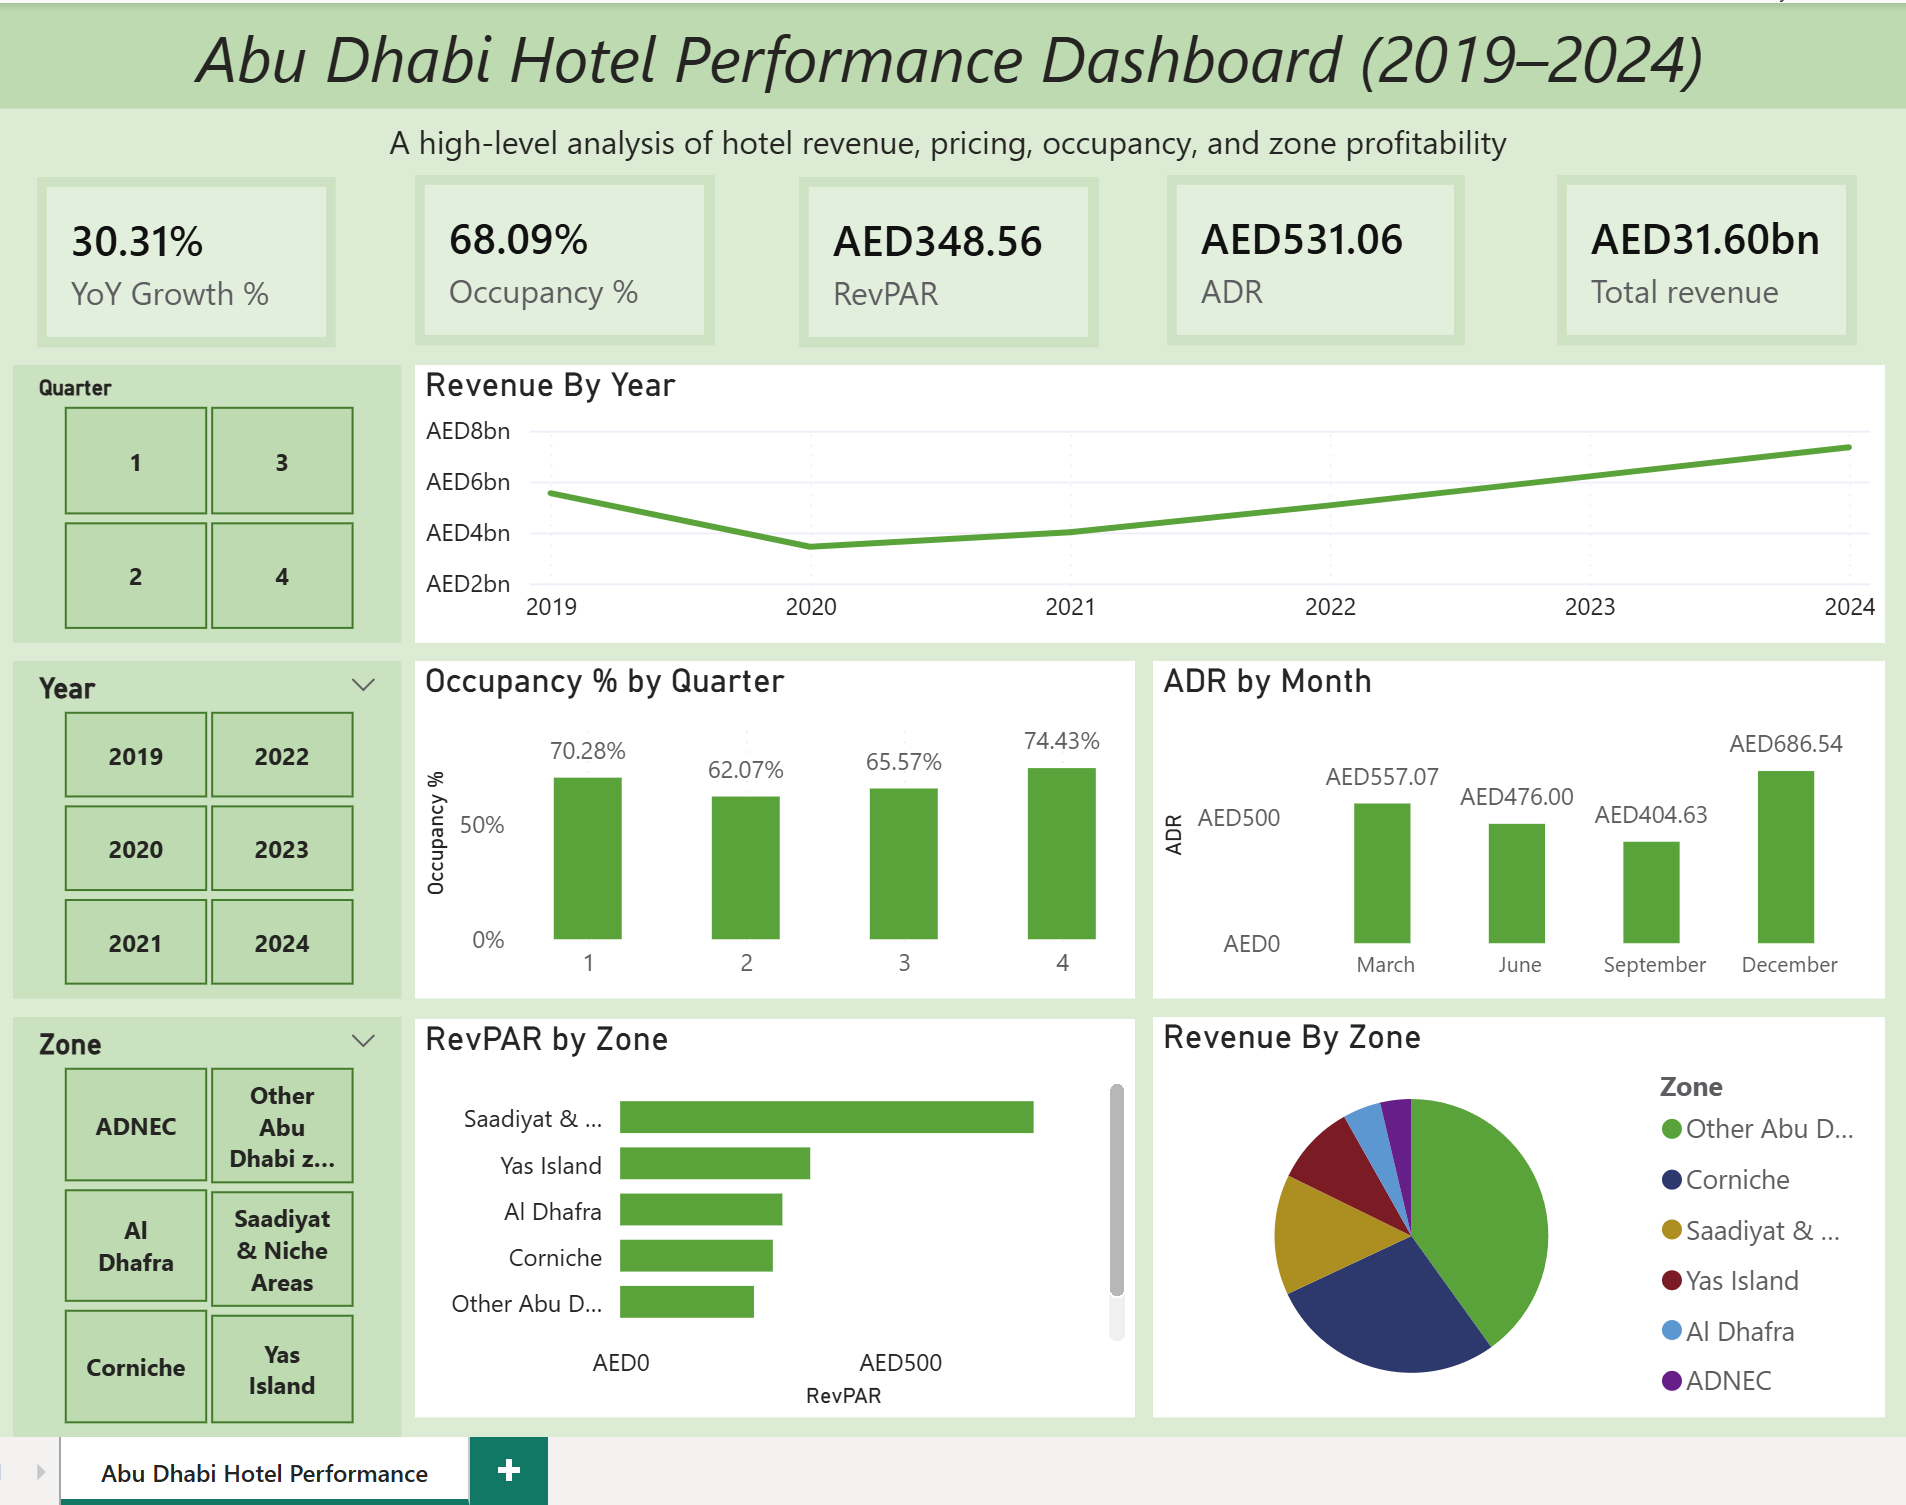

The dashboard page shown, as its layout file describes it:
{"tool":"powerbi","page":{"name":"Abu Dhabi Hotel Performance","canvas":[960,720],"ordinal":0},"visuals":[{"type":"textbox","box":[0,0,959.7,52.8],"z":0},{"type":"cardVisual","fields":{"Data":["Hotel Performance & Revenue.Hotels Total revenue"]},"box":[749.4,89.4,200.1,85.3],"z":1000},{"type":"cardVisual","fields":{"Data":["Hotel Performance & Revenue.ADR"]},"box":[549.4,87.3,200.1,85.3],"z":2000},{"type":"cardVisual","fields":{"Data":["Hotel Performance & Revenue.RevPAR"]},"box":[349.3,89.4,200.1,85.3],"z":3000},{"type":"cardVisual","fields":{"Data":["Hotel Performance & Revenue.YoY Growth %"]},"box":[0,89.4,174.7,85.3],"z":4000},{"type":"cardVisual","fields":{"Data":["Hotel Performance & Revenue.Occupancy %"]},"box":[174.7,89.4,174.7,85.3],"z":5000},{"type":"slicer","fields":{"Values":["Hotel Performance & Revenue.Quarter"]},"box":[0,174.7,211.2,146.2],"z":6000},{"type":"slicer","fields":{"Values":["Date.Year"]},"box":[0,320.9,211.2,178.7],"z":7000},{"type":"slicer","fields":{"Values":["Hotel Performance & Revenue.Zone "]},"box":[0,499.6,211.2,220.4],"z":8000},{"type":"clusteredBarChart","fields":{"Y":["Hotel Performance & Revenue.RevPAR"],"Category":["Hotel Performance & Revenue.Zone "]},"box":[211.2,509.8,370.7,210.2],"z":9000},{"type":"lineChart","title":"Revenue By Year","fields":{"Y":["Hotel Performance & Revenue.Total revenue"],"Category":["Hotel Performance & Revenue.Year"]},"box":[211.2,174.7,738.3,146.2],"z":10000},{"type":"clusteredColumnChart","fields":{"Y":["Hotel Performance & Revenue.Occupancy %"],"Category":["Hotel Performance & Revenue.Quarter"]},"box":[211.2,330,370.7,178.7],"z":11000},{"type":"clusteredColumnChart","fields":{"Y":["Hotel Performance & Revenue.ADR"],"Category":["Hotel Performance & Revenue.Year"]},"box":[581.9,330,378.8,178.7],"z":12000},{"type":"pieChart","title":"Revenue By Zone ","fields":{"Y":["Hotel Performance & Revenue.Total revenue"],"Category":["Hotel Performance & Revenue.Zone "]},"box":[581.9,508.8,377.8,211.2],"z":13000},{"type":"textbox","box":[97.5,52.8,765.7,34.5],"z":14000}]}

Visuals, with their boxes on the page's 960x720 design canvas (x1, y1, x2, y2). These are canvas units, not pixel positions in the 1906x1505 screenshot, which may show the page scaled, cropped or inside an application window:
textbox: detection(0, 0, 960, 53)
cardVisual - Hotel Performance & Revenue.Hotels Total revenue: detection(749, 89, 950, 175)
cardVisual - Hotel Performance & Revenue.ADR: detection(549, 87, 750, 173)
cardVisual - Hotel Performance & Revenue.RevPAR: detection(349, 89, 549, 175)
cardVisual - Hotel Performance & Revenue.YoY Growth %: detection(0, 89, 175, 175)
cardVisual - Hotel Performance & Revenue.Occupancy %: detection(175, 89, 349, 175)
slicer - Hotel Performance & Revenue.Quarter: detection(0, 175, 211, 321)
slicer - Date.Year: detection(0, 321, 211, 500)
slicer - Hotel Performance & Revenue.Zone : detection(0, 500, 211, 720)
clusteredBarChart - Hotel Performance & Revenue.RevPAR x Hotel Performance & Revenue.Zone : detection(211, 510, 582, 720)
"Revenue By Year" lineChart: detection(211, 175, 950, 321)
clusteredColumnChart - Hotel Performance & Revenue.Occupancy % x Hotel Performance & Revenue.Quarter: detection(211, 330, 582, 509)
clusteredColumnChart - Hotel Performance & Revenue.ADR x Hotel Performance & Revenue.Year: detection(582, 330, 961, 509)
"Revenue By Zone " pieChart: detection(582, 509, 960, 720)
textbox: detection(98, 53, 863, 87)
